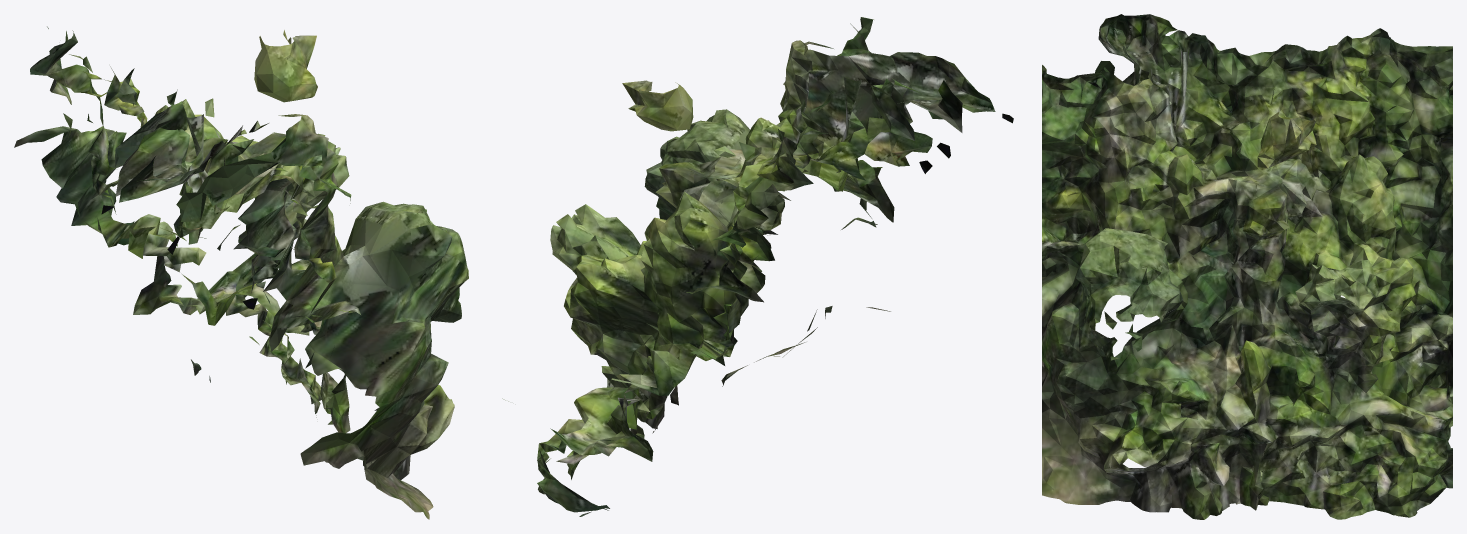
3 views of the same model, side by side, from view 1: azimuth 30°, elevation 25°; view 2: azimuth 150°, elevation 25°; view 3: azimuth 270°, elevation 25° (orthographic). The views are drawn at different scales.
Size of the model in its own units: 25.04 by 26.11 by 26.11.
Materials: 7 (7 with a texture image).
